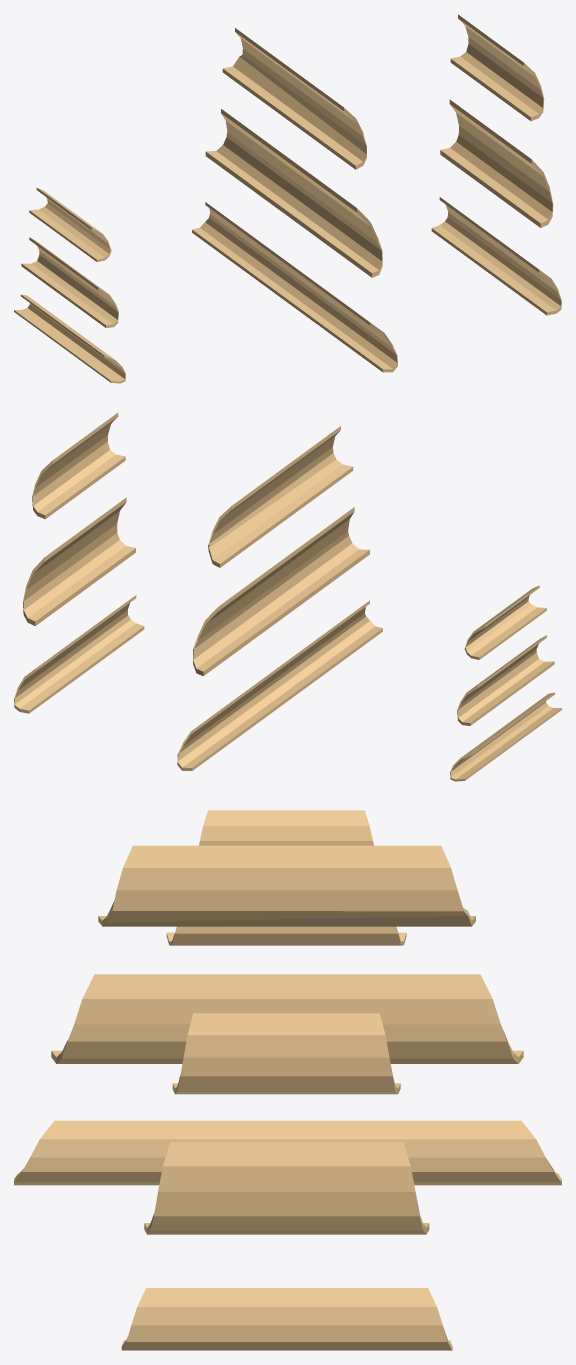
The model's file is SailsHalf.fbx.
The picture shows the model from 3 angles, top to bottom: view 1: azimuth 30°, elevation 25°; view 2: azimuth 150°, elevation 25°; view 3: azimuth 270°, elevation 25°; orthographic projection. The views are drawn at different scales.
Visible parts, largest first — view 1: Sail Half Mid 2, Sail Half Mid 3, Sail Half Mid 1, Sail Half Front 2, Sail Half Front 3, Sail Half Front 1, Sail Half Back 2, Sail Half Back 3, Sail Half Back 1; view 2: Sail Half Mid 2, Sail Half Mid 3, Sail Half Mid 1, Sail Half Front 2, Sail Half Front 3, Sail Half Front 1, Sail Half Back 2, Sail Half Back 3, Sail Half Back 1; view 3: Sail Half Mid 2, Sail Half Mid 1, Sail Half Front 2, Sail Half Mid 3, Sail Half Front 3, Sail Half Front 1, Sail Half Back 1, Sail Half Back 2.
Boxes of the visible parts, bbox=[...] form: Sail Half Mid 2: bbox=[205, 109, 382, 277]; Sail Half Mid 3: bbox=[192, 202, 397, 372]; Sail Half Mid 1: bbox=[222, 28, 366, 169]; Sail Half Front 2: bbox=[440, 99, 553, 227]; Sail Half Front 3: bbox=[431, 197, 561, 315]; Sail Half Front 1: bbox=[450, 14, 544, 121]; Sail Half Back 2: bbox=[21, 237, 118, 327]; Sail Half Back 3: bbox=[14, 294, 125, 383]; Sail Half Back 1: bbox=[29, 188, 111, 261]; Sail Half Mid 2: bbox=[193, 507, 369, 676]; Sail Half Mid 3: bbox=[177, 600, 382, 770]; Sail Half Mid 1: bbox=[208, 426, 353, 567]; Sail Half Front 2: bbox=[23, 497, 135, 625]; Sail Half Front 3: bbox=[14, 595, 144, 713]; Sail Half Front 1: bbox=[32, 412, 125, 519]; Sail Half Back 2: bbox=[457, 635, 554, 725]; Sail Half Back 3: bbox=[450, 692, 561, 781]; Sail Half Back 1: bbox=[464, 585, 546, 659]; Sail Half Mid 2: bbox=[51, 974, 523, 1063]; Sail Half Mid 1: bbox=[98, 845, 475, 926]; Sail Half Front 2: bbox=[144, 1142, 429, 1234]; Sail Half Mid 3: bbox=[14, 1120, 561, 1185]; Sail Half Front 3: bbox=[121, 1288, 452, 1350]; Sail Half Front 1: bbox=[172, 1013, 400, 1094]; Sail Half Back 1: bbox=[199, 810, 373, 845]; Sail Half Back 2: bbox=[166, 926, 406, 945].
Bounding box in the file's own units: 8166 × 10835 × 5935.
